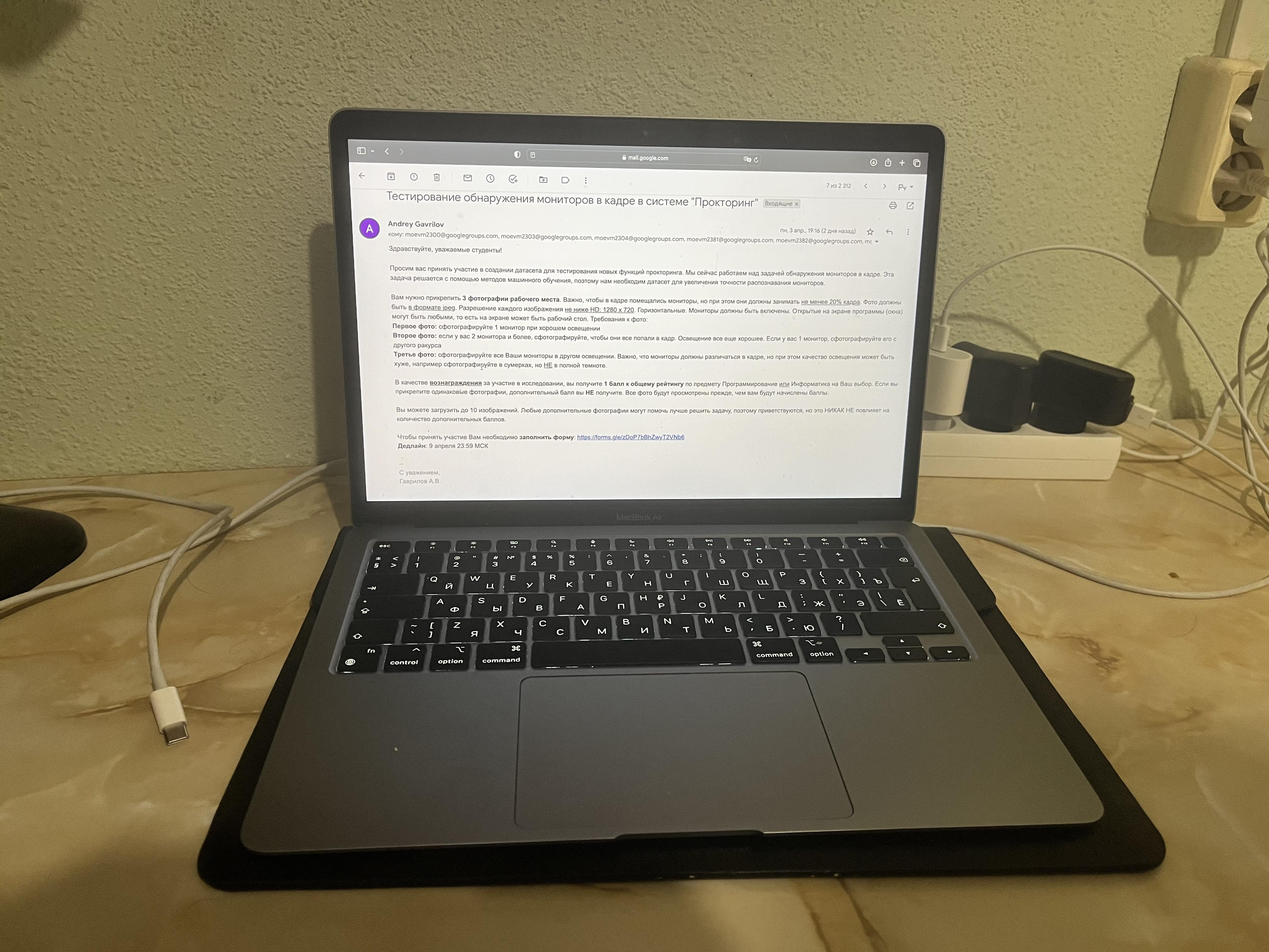monitor: (326, 105, 948, 524)
